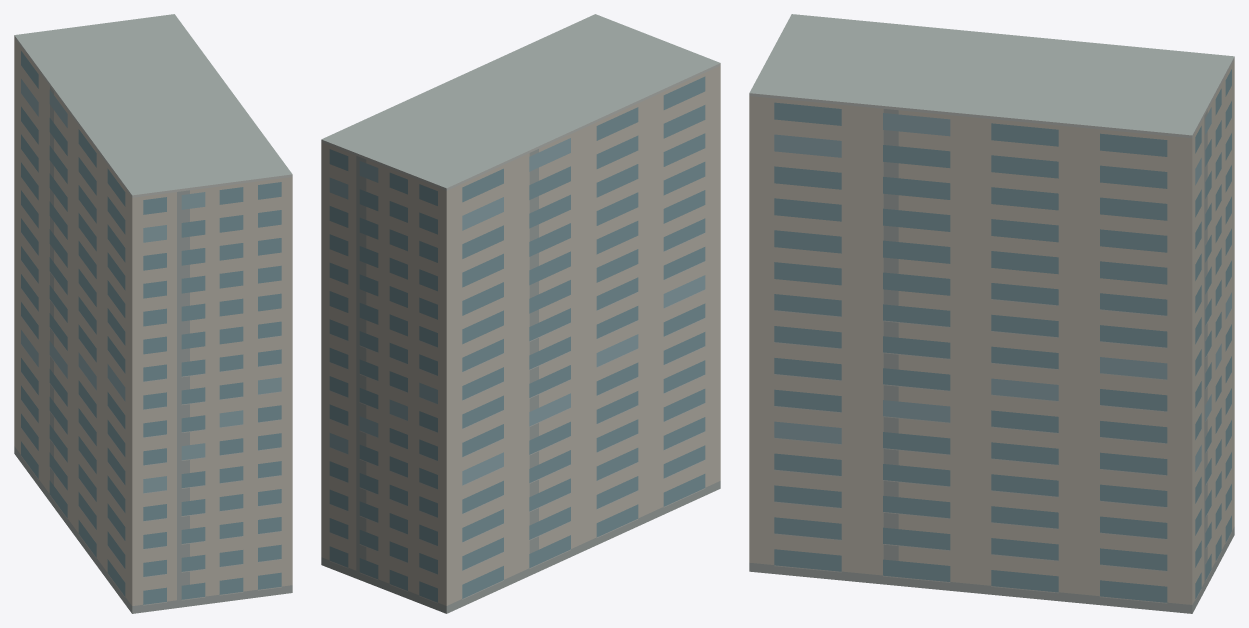
File: residential-421314cf-cf1a-4269-a4a3-9845f4e8b0a1.glb
The picture shows the model from 3 angles, left to right: view 1: azimuth 30°, elevation 25°; view 2: azimuth 150°, elevation 25°; view 3: azimuth 270°, elevation 25°; orthographic projection. The views are drawn at different scales.
Parts seen in each view (by area): view 1: residential-421314cf-cf1a-4269-a4a3-9845f4e8b0a1.tmp; view 2: residential-421314cf-cf1a-4269-a4a3-9845f4e8b0a1.tmp; view 3: residential-421314cf-cf1a-4269-a4a3-9845f4e8b0a1.tmp.
Part boxes in pixels (x1,y1,x2,y2): residential-421314cf-cf1a-4269-a4a3-9845f4e8b0a1.tmp: (14, 14, 292, 613); residential-421314cf-cf1a-4269-a4a3-9845f4e8b0a1.tmp: (321, 14, 720, 613); residential-421314cf-cf1a-4269-a4a3-9845f4e8b0a1.tmp: (749, 14, 1234, 613).
Size of the model in its own units: 22.33 by 41 by 37.7.
